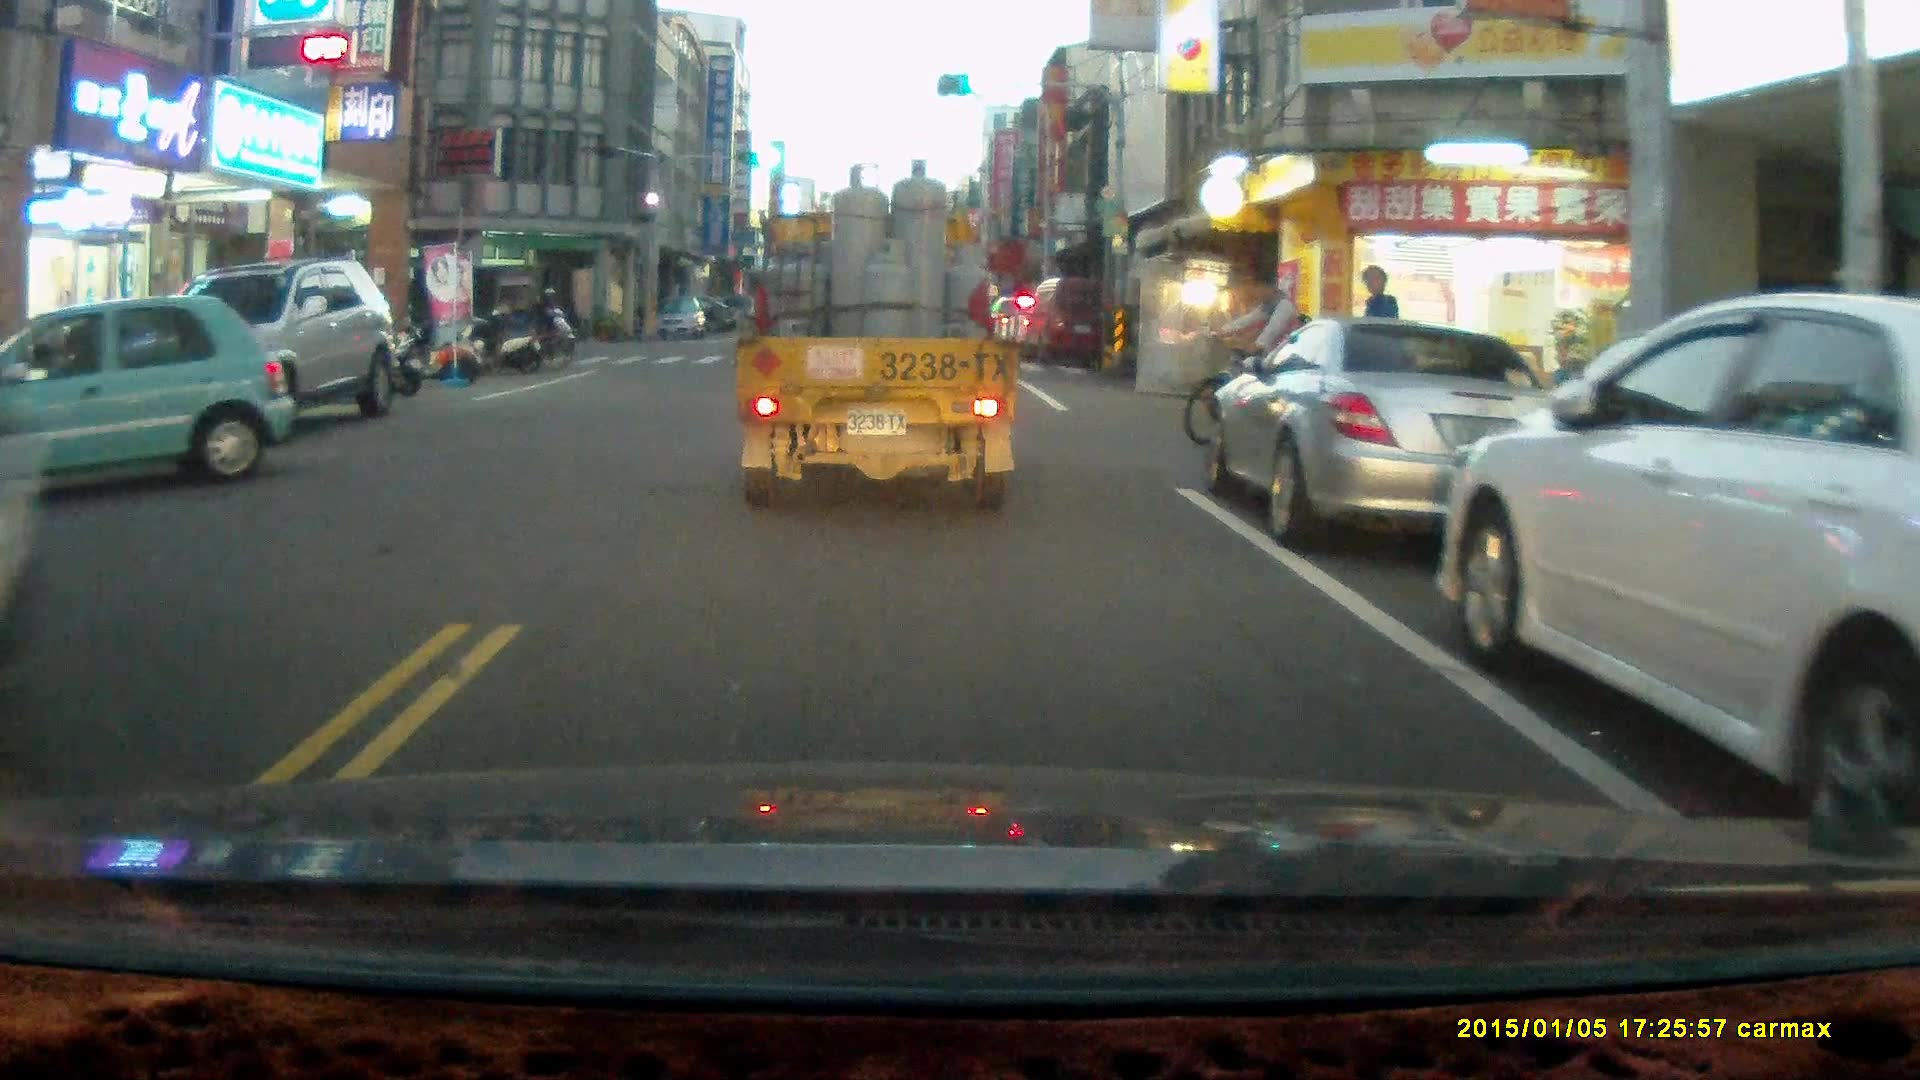rider: (1185, 270, 1347, 452), (517, 284, 580, 359)
vehicle: (1437, 285, 1920, 829), (734, 162, 1025, 515), (1209, 321, 1588, 549), (1, 294, 296, 488), (138, 257, 399, 436), (333, 261, 542, 365), (1027, 272, 1131, 370), (655, 296, 709, 343)
